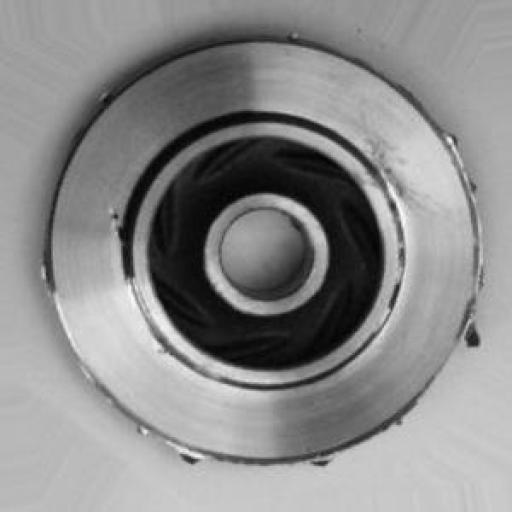defect: (22, 30, 494, 482)
